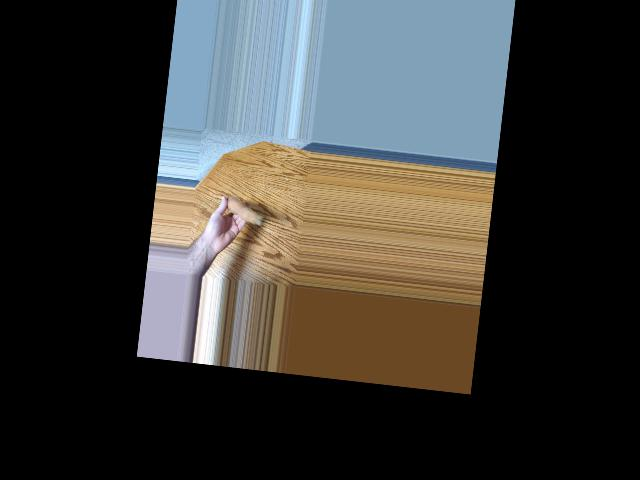sweet_potato: (220, 195, 265, 228)
